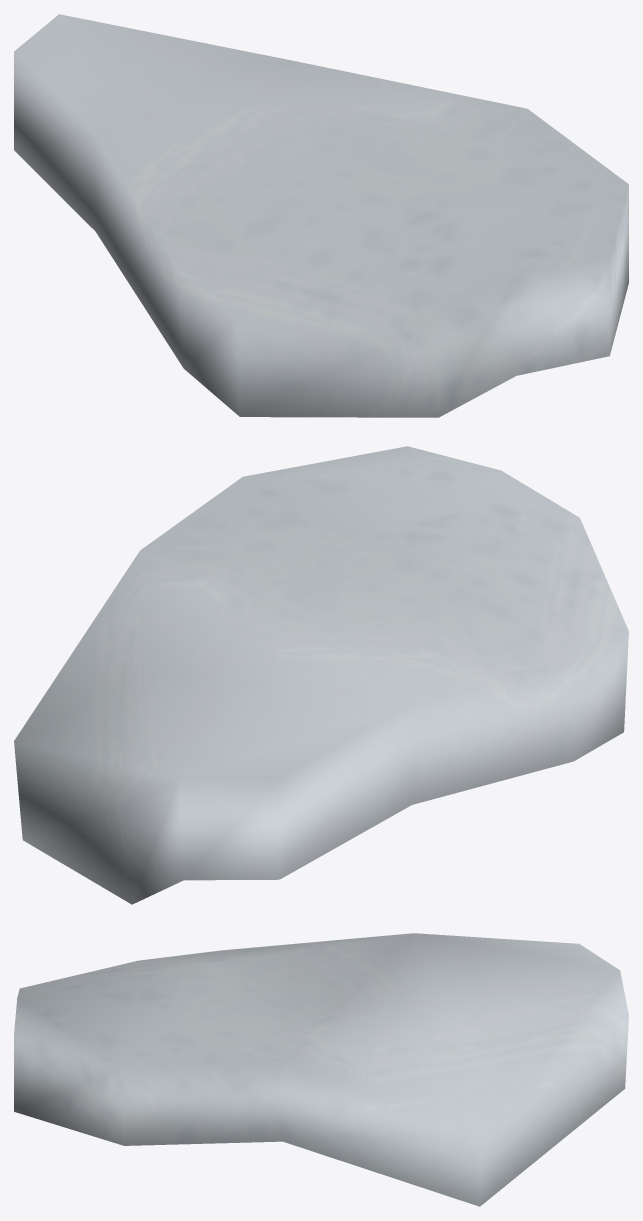
Rendered from Rock_12_Snow.fbx.
The picture shows the model from 3 angles, top to bottom: view 1: azimuth 30°, elevation 25°; view 2: azimuth 150°, elevation 25°; view 3: azimuth 270°, elevation 25°; orthographic projection. The views are drawn at different scales.
Visible parts, largest first — view 1: Rock_12_Snow; view 2: Rock_12_Snow; view 3: Rock_12_Snow.
Part boxes in pixels (x1=…): Rock_12_Snow: x1=14, y1=14, x2=628, y2=417; Rock_12_Snow: x1=14, y1=446, x2=628, y2=904; Rock_12_Snow: x1=14, y1=933, x2=628, y2=1206.
Bounding box in the file's own units: 111 × 50.66 × 194.
